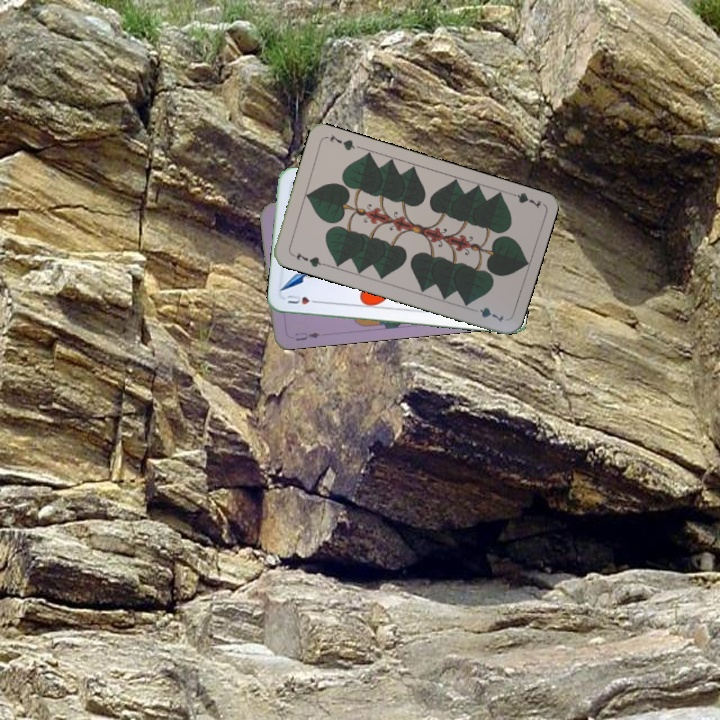EU: (291, 328, 323, 343)
G7: (503, 187, 543, 211), (292, 248, 327, 270)
HU: (283, 291, 322, 307)
